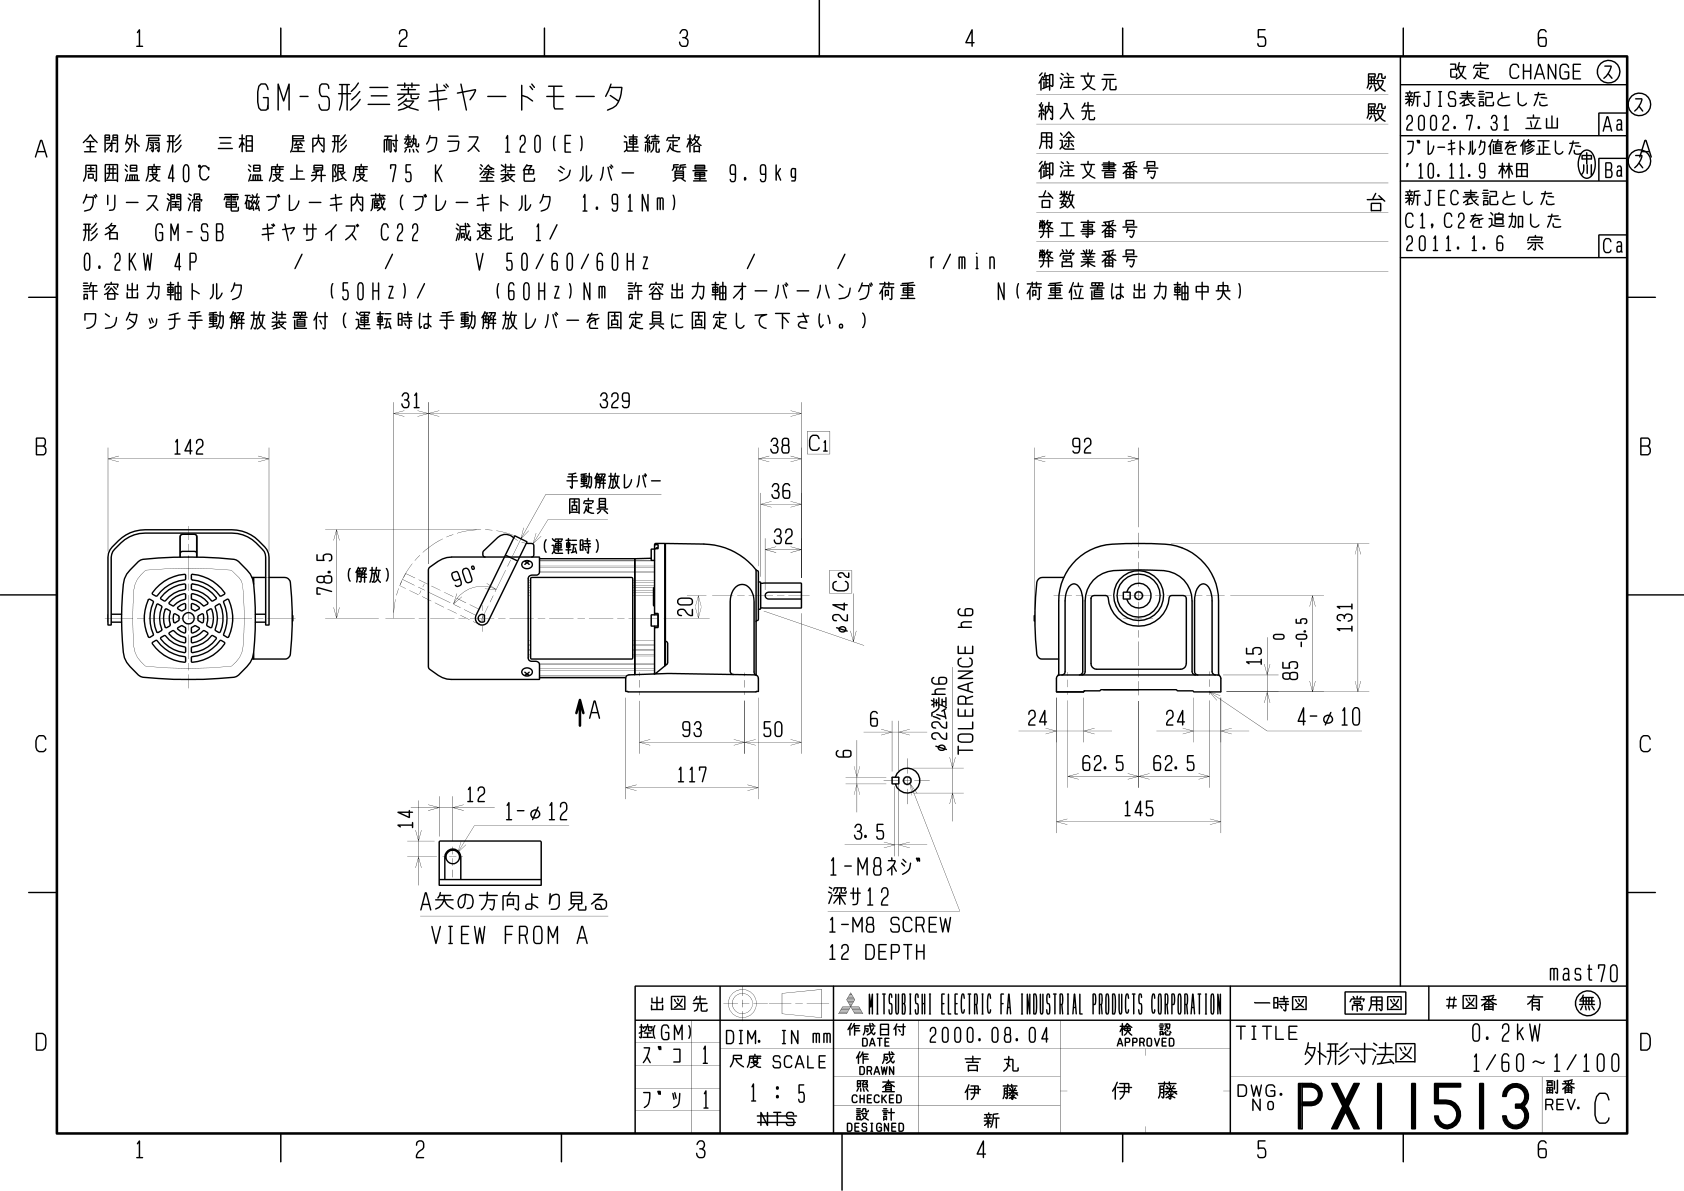GM_S_手動ブレーキ＿三相_脚: (4, 3, 1684, 1191)
